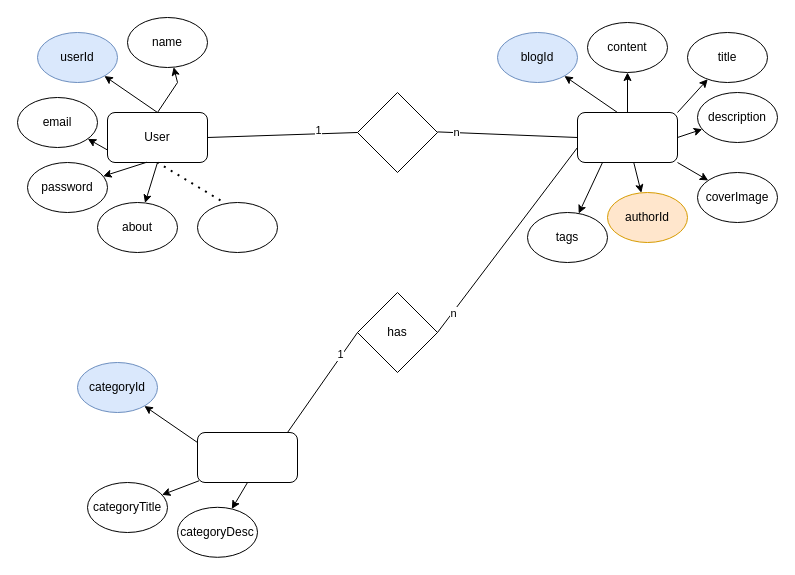
Image size: 795x575. Some labels were removed from this diagram. The shapes that lost their labels are listed below. From the top down, each one's box as (x1, y1, x2, y2) in pixels, then its label:
(356, 92, 438, 172): writes
(576, 112, 678, 162): Blog
(196, 202, 278, 252): isActive
(196, 432, 298, 482): Category
